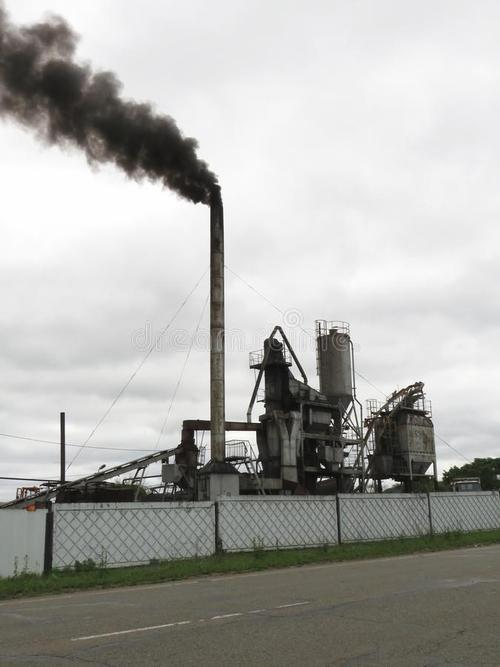smoke: (1, 5, 226, 207)
